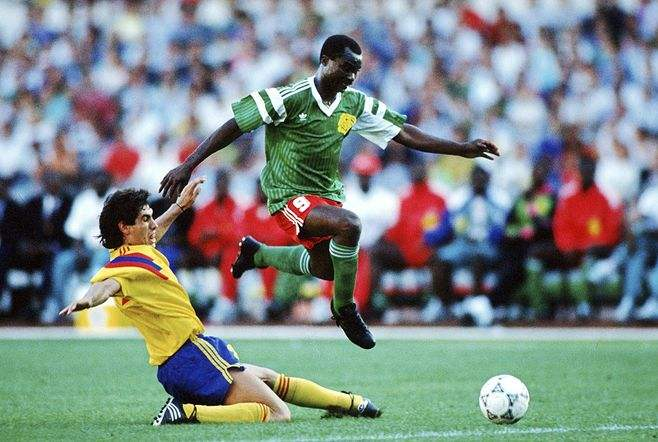football: (477, 373, 532, 424)
